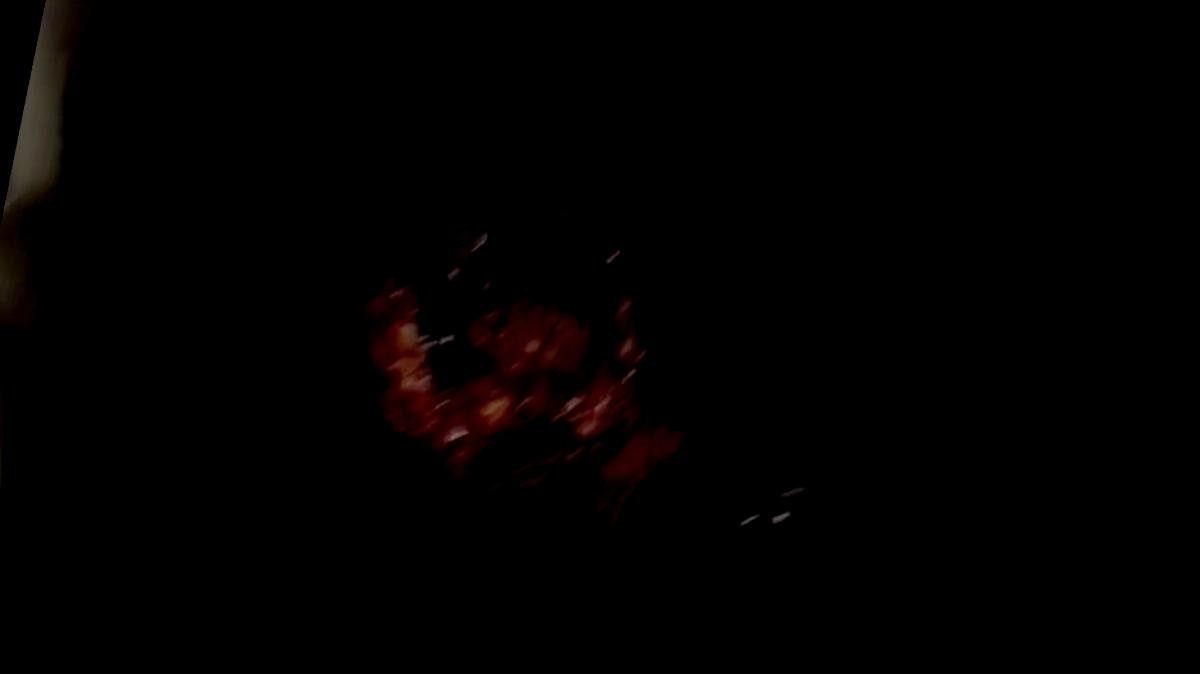Fire: (317, 215, 715, 549)
